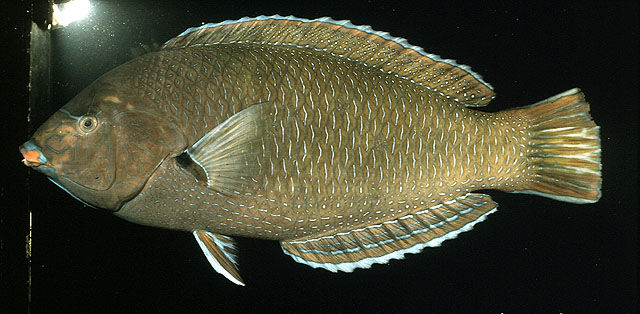fish: (21, 15, 603, 288)
